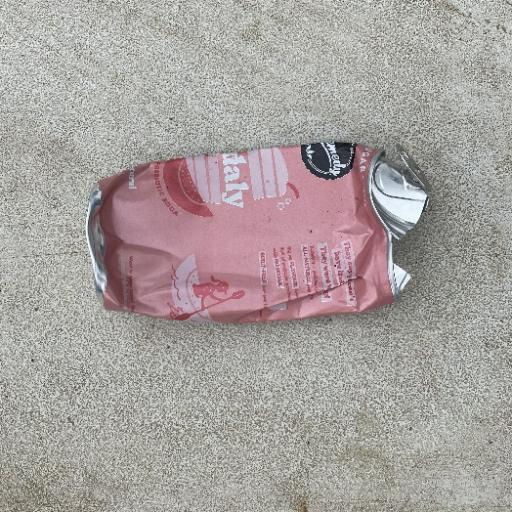Metal: (83, 139, 431, 326)
